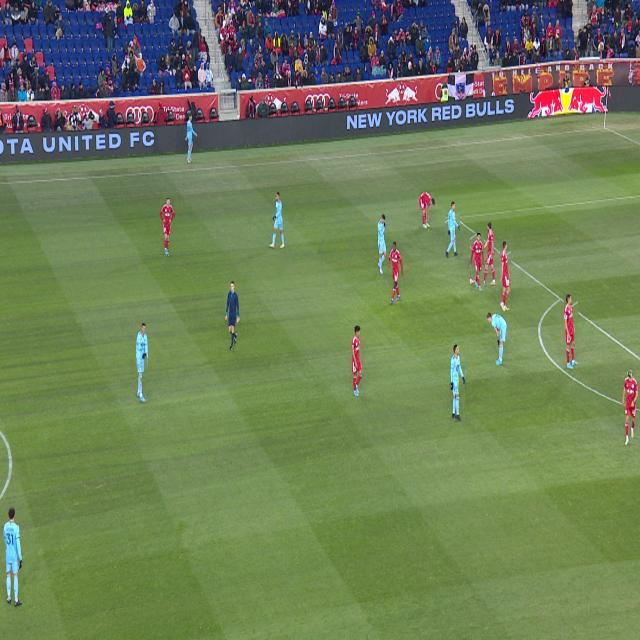player: (3, 507, 22, 606), (622, 370, 638, 445), (451, 344, 465, 421), (479, 223, 496, 286), (564, 294, 578, 369), (487, 313, 507, 365), (388, 242, 403, 304), (269, 192, 285, 248), (470, 234, 484, 291), (137, 323, 147, 402), (446, 202, 460, 258), (500, 242, 511, 312), (161, 199, 174, 255), (352, 326, 362, 396), (419, 193, 435, 229), (378, 214, 387, 275)
referee: (226, 282, 239, 351)
